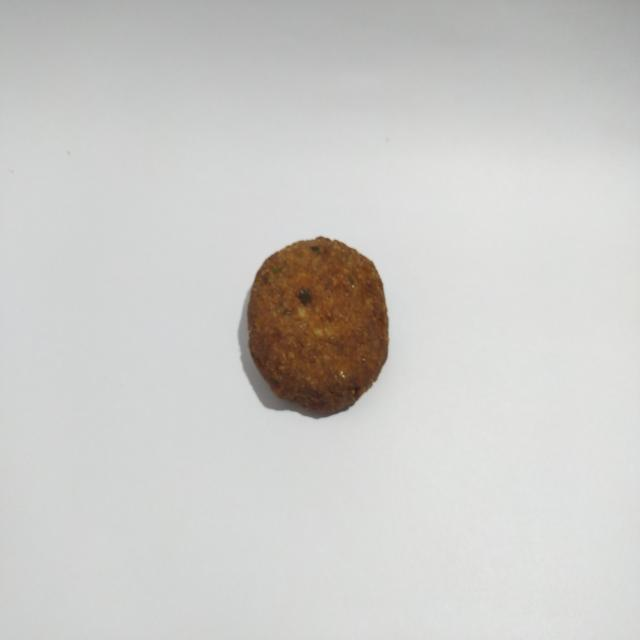Food: (240, 226, 397, 431)
